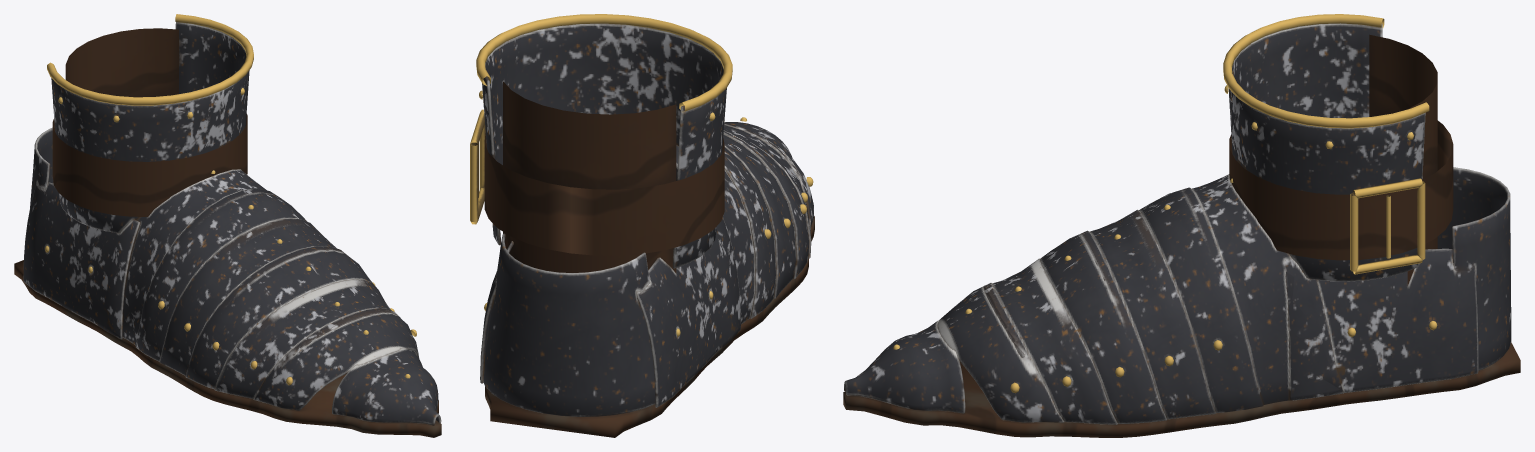
Rendered from SM_EagleSabatons_L.fbx.
3 views of the same model, side by side, from view 1: azimuth 30°, elevation 25°; view 2: azimuth 150°, elevation 25°; view 3: azimuth 270°, elevation 25° (orthographic). The views are drawn at different scales.
Visible parts, largest first — view 1: SM_EagleSabatons_L; view 2: SM_EagleSabatons_L; view 3: SM_EagleSabatons_L.
Boxes of the visible parts, x1=… form: SM_EagleSabatons_L: x1=14, y1=14, x2=441, y2=437; SM_EagleSabatons_L: x1=470, y1=14, x2=814, y2=437; SM_EagleSabatons_L: x1=843, y1=14, x2=1520, y2=437.
Bounding box in the file's own units: 0.1354 × 0.1413 × 0.2938.
